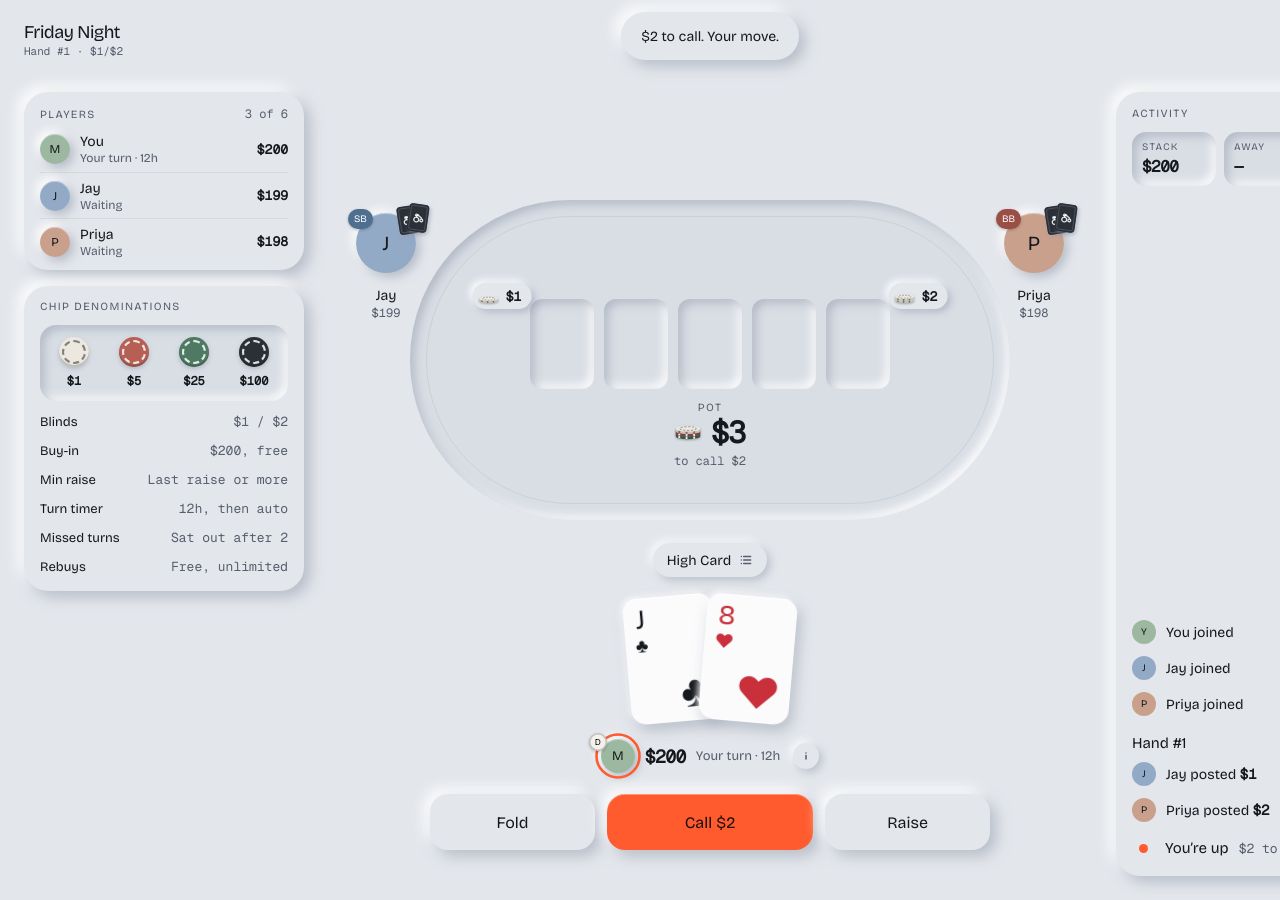
Scenario: the table › opens the raise sheet with legal limits
Step 1. Click the button "Raise" → (908, 822), box [825, 794, 990, 850]
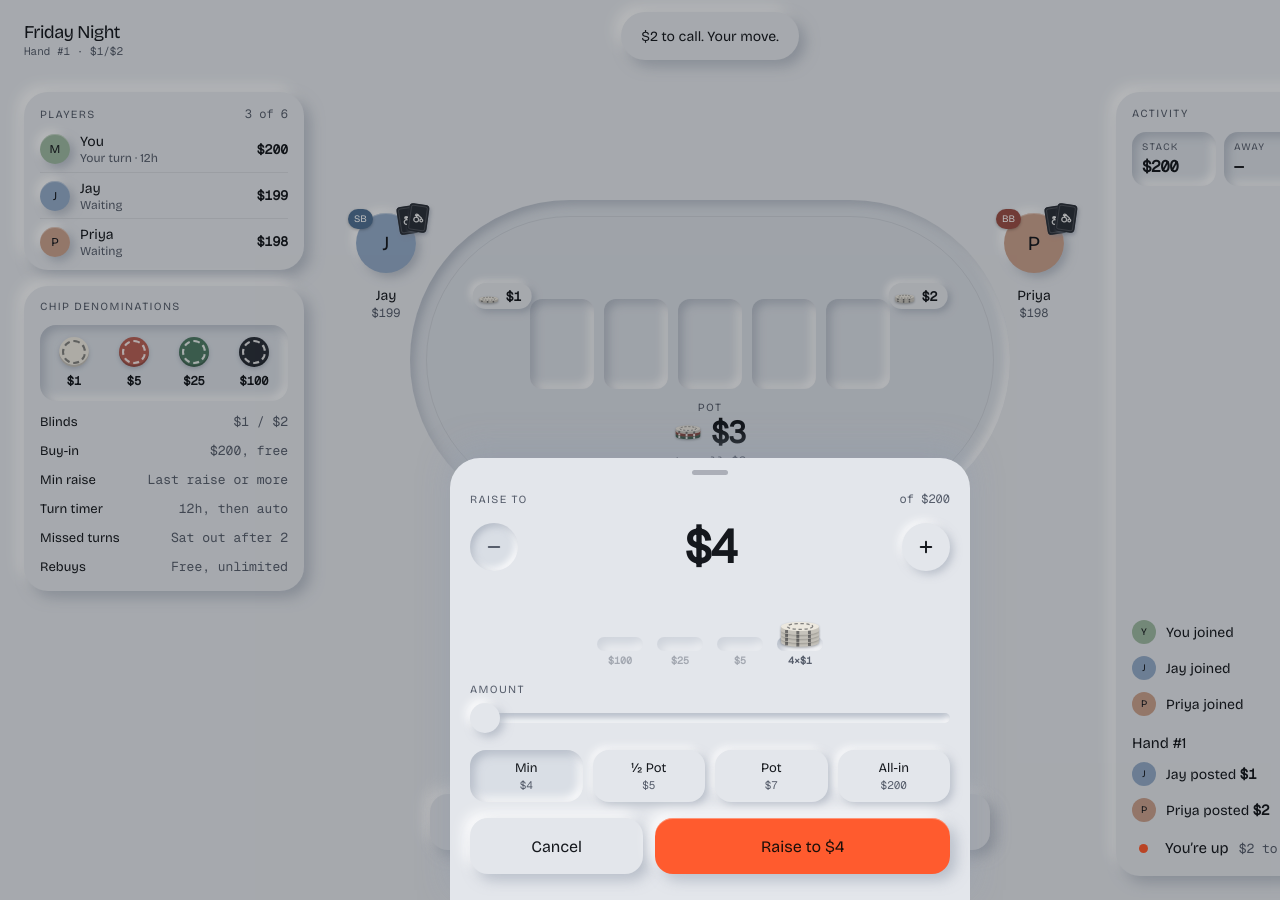
Result: the button "Raise to $4" is shown at [655, 818, 950, 874]
